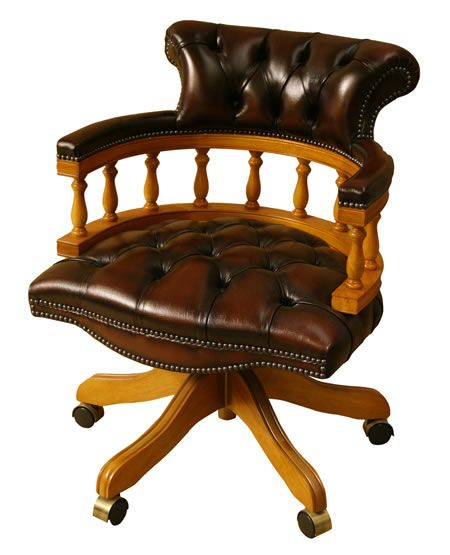chairs: (28, 15, 431, 542)
